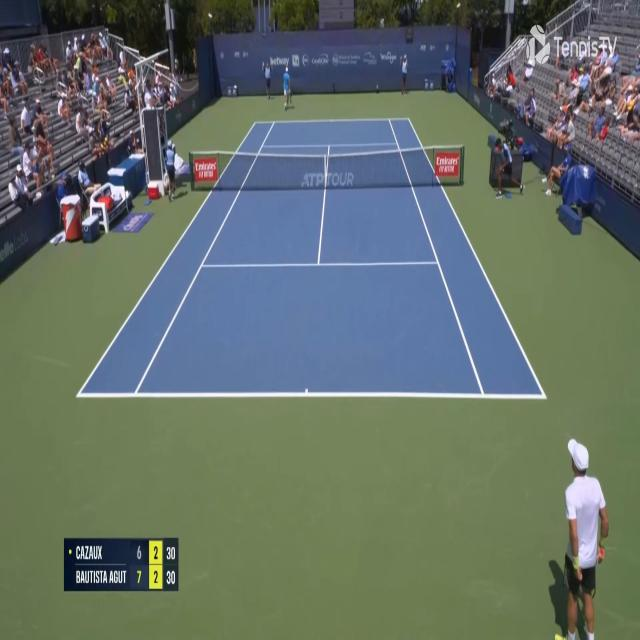tennis-player: (545, 433, 610, 640), (282, 62, 294, 110)
